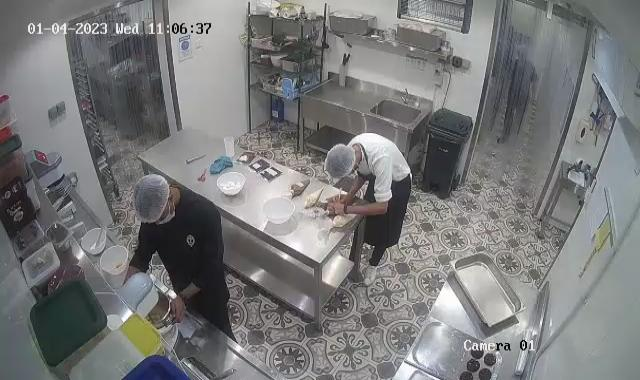hairnet: (133, 174, 173, 224), (325, 144, 358, 180)
